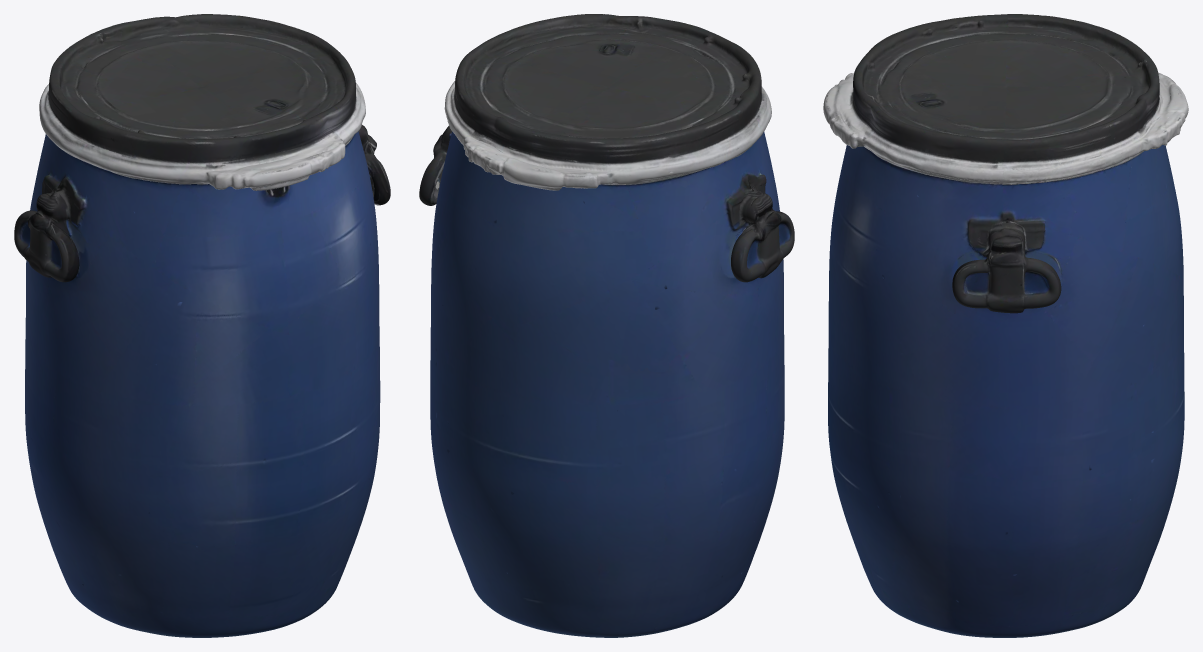
File: Blue_Plastic_Drum_0813220229_texture.compressed.glb
3 renders of one model, left to right at view 1: azimuth 30°, elevation 25°; view 2: azimuth 150°, elevation 25°; view 3: azimuth 270°, elevation 25°, orthographic.
Visible parts, largest first — view 1: input; view 2: input; view 3: input.
Part boxes in pixels (x1,y1,x2,y2): input: (14, 14, 390, 637); input: (419, 14, 794, 637); input: (823, 14, 1188, 637).
Bounding box in the file's own units: 139 × 199 × 130.
1 material, 1 textured.
